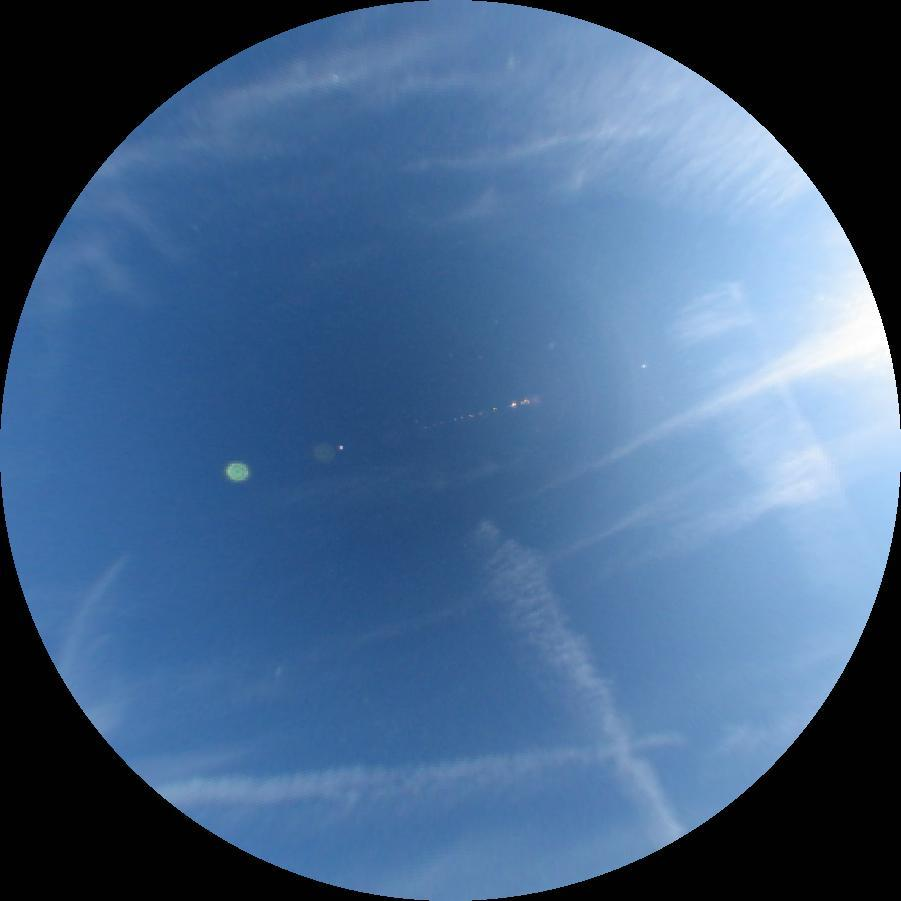contrail veryold: (456, 499, 697, 860), (150, 711, 822, 835)
